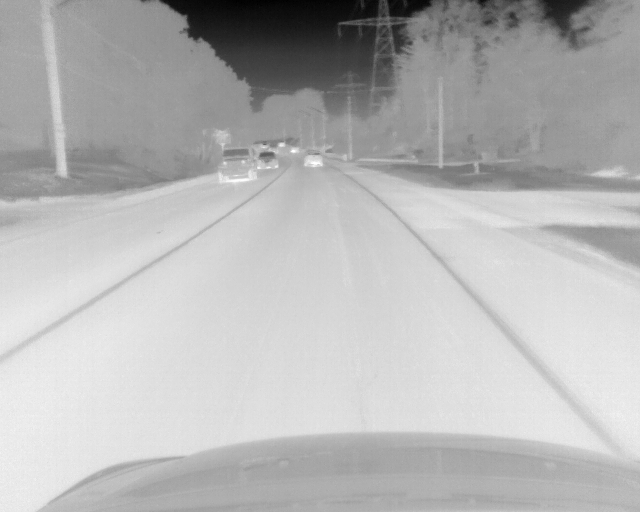car: (217, 147, 257, 185), (255, 151, 279, 170), (302, 150, 323, 170), (289, 146, 300, 153), (277, 141, 286, 148)
